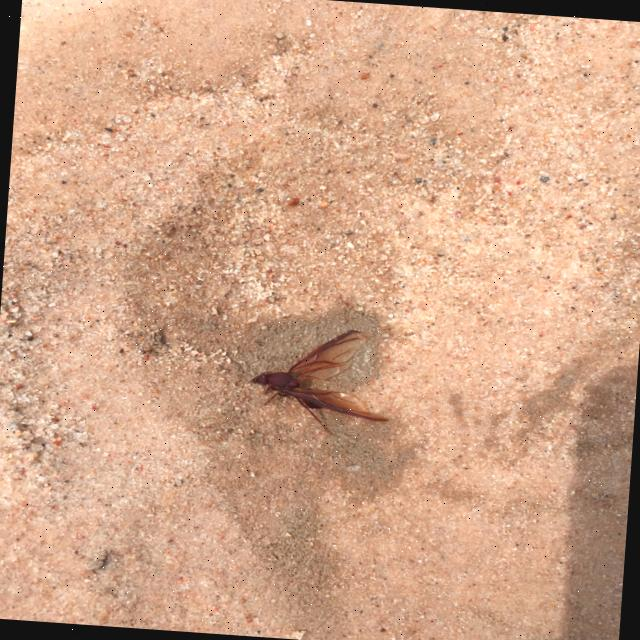Dead-Female-Alate: (246, 322, 394, 438)
